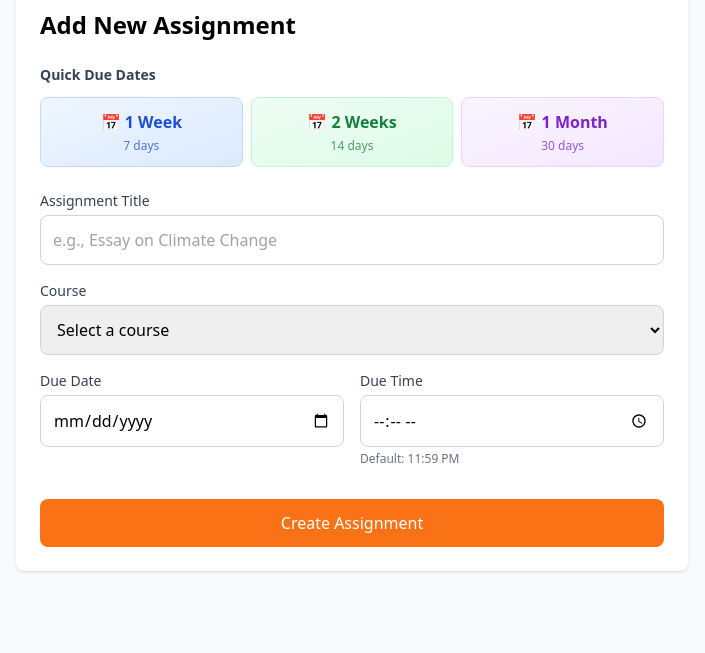
AddAssignmentComponent › Error Handling › displays error message when assignment creation fails
Type "Test Assignment" into the field with placeholder "e.g., Essay on Climate Change" at {"x": 352, "y": 240}, box [40,215,664,265]
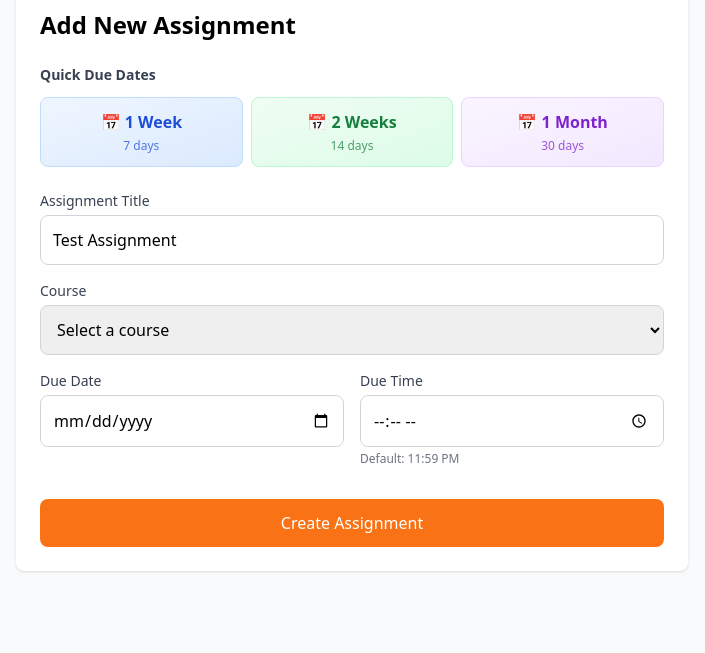
Select "Mathematics 101" in the dropdown at {"x": 352, "y": 330}, box [40,305,664,355]
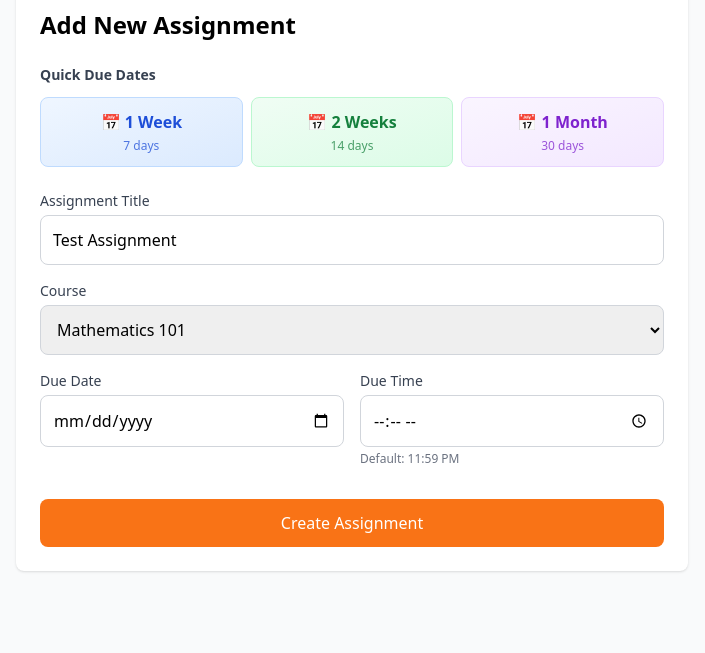
Click the button "📅 1 Week 7 days" at {"x": 141, "y": 132}, box [40,97,243,167]
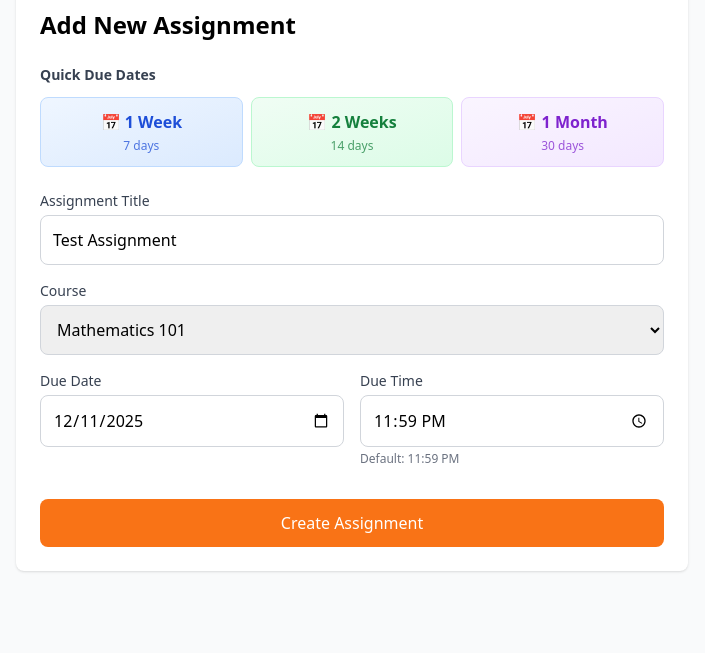
Click the button "Create Assignment" at {"x": 352, "y": 523}, box [40,499,664,547]
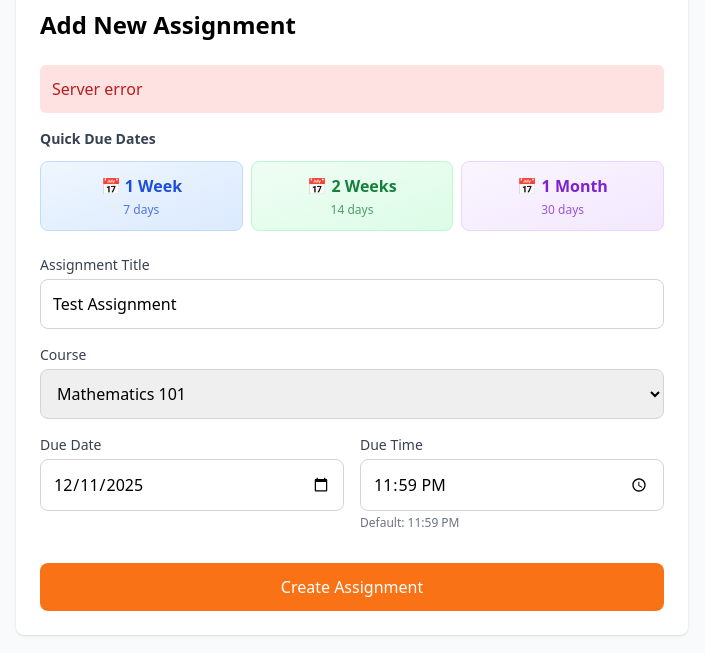
Result: the text "Server error" is shown at [40,65,664,113]
